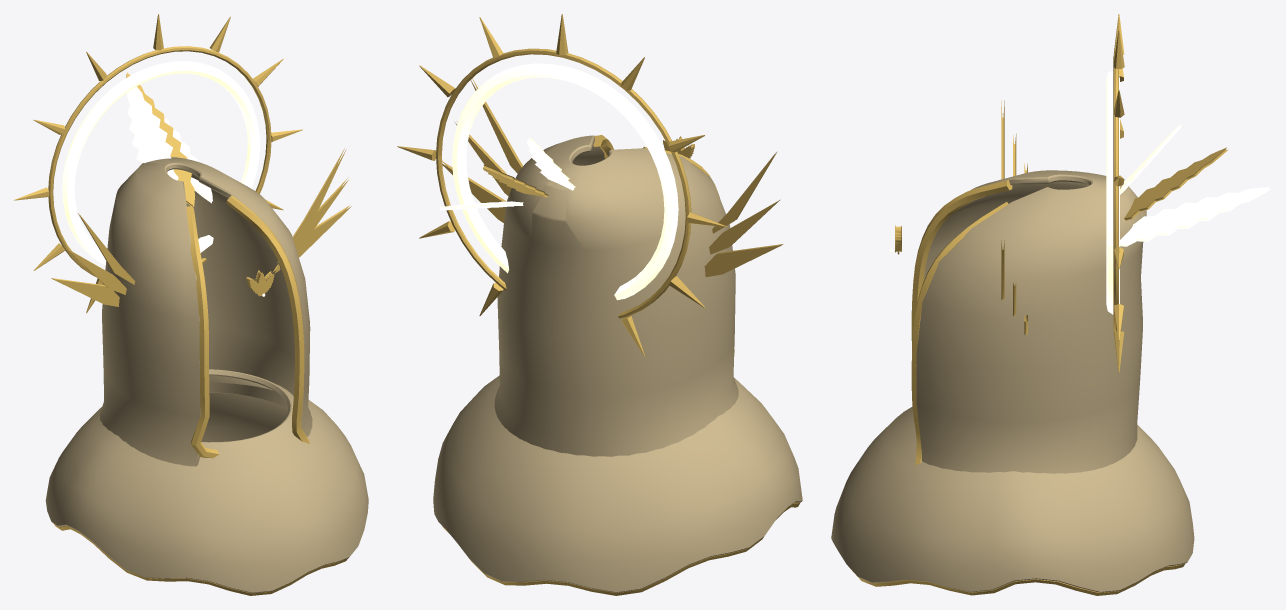
Rendered from asc_cantor_of_dawn_helm.glb.
The picture shows the model from 3 angles, left to right: view 1: azimuth 30°, elevation 25°; view 2: azimuth 150°, elevation 25°; view 3: azimuth 270°, elevation 25°; orthographic projection. The views are drawn at different scales.
Parts seen in each view (by area): view 1: asc_cantor_of_dawn_helm; view 2: asc_cantor_of_dawn_helm; view 3: asc_cantor_of_dawn_helm.
Boxes of the visible parts, x1,y1,x2,y2 form: asc_cantor_of_dawn_helm: (14, 14, 368, 595); asc_cantor_of_dawn_helm: (397, 14, 802, 595); asc_cantor_of_dawn_helm: (831, 14, 1270, 595).
Bounding box in the file's own units: 0.6472 × 0.9868 × 0.7596.
